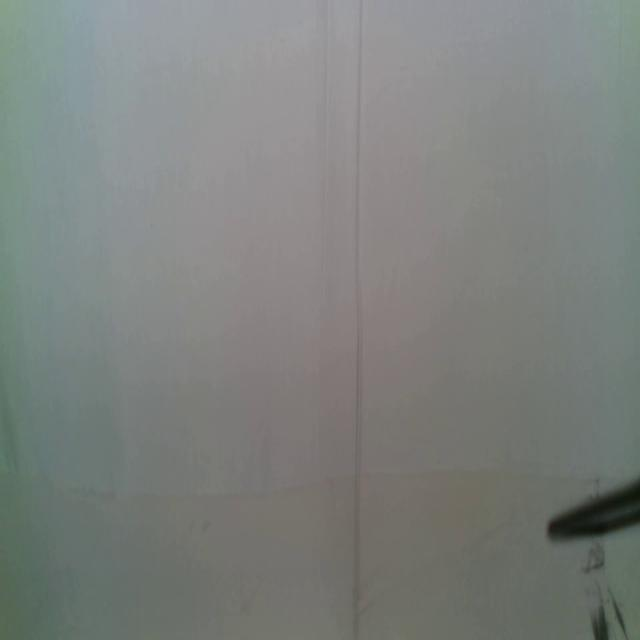color bleeding: (59, 463, 591, 505)
crease: (350, 1, 366, 640), (318, 1, 333, 317)
